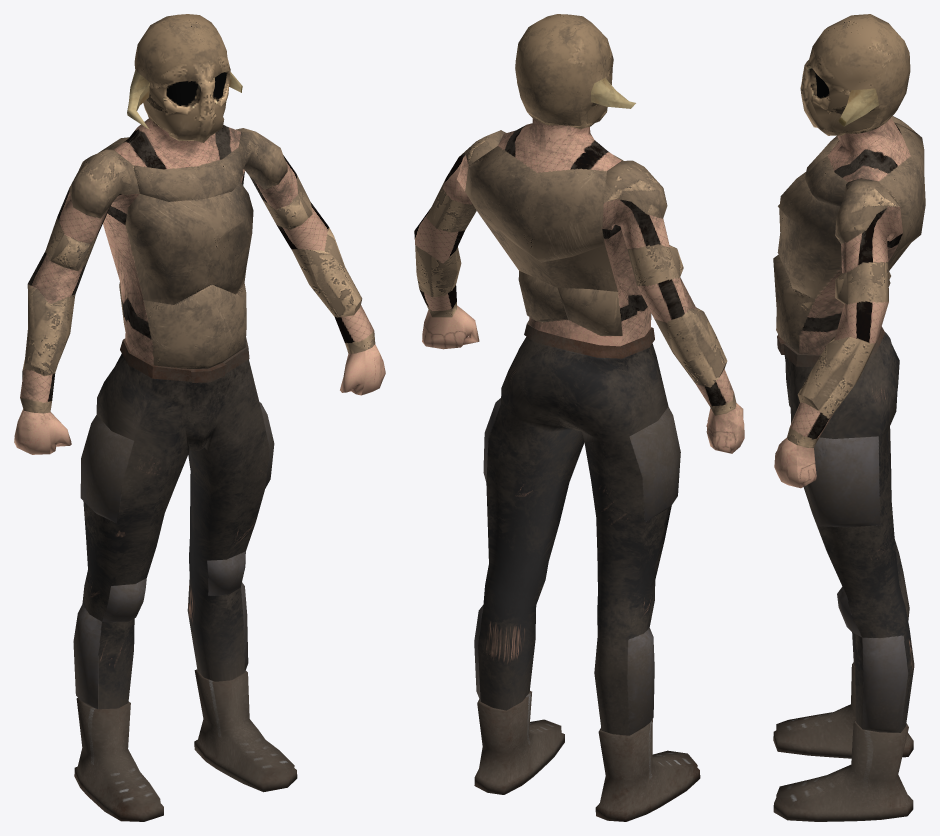
The model's file is Anim_idle_npc1.0051.obj.
The picture shows the model from 3 angles, left to right: view 1: azimuth 30°, elevation 25°; view 2: azimuth 150°, elevation 25°; view 3: azimuth 270°, elevation 25°; orthographic projection.
Parts seen in each view (by area): view 1: NPC2; view 2: NPC2; view 3: NPC2.
Part boxes in pixels (box(x1,y1,x2,y2)): NPC2: box(14, 14, 385, 821); NPC2: box(414, 14, 744, 821); NPC2: box(773, 14, 925, 821).
Bounding box in the file's own units: 4.54 × 9.66 × 1.74.
